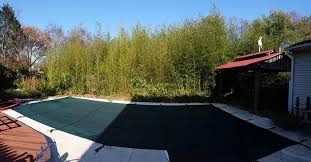bamboo: (55, 4, 221, 97), (227, 12, 251, 50)
